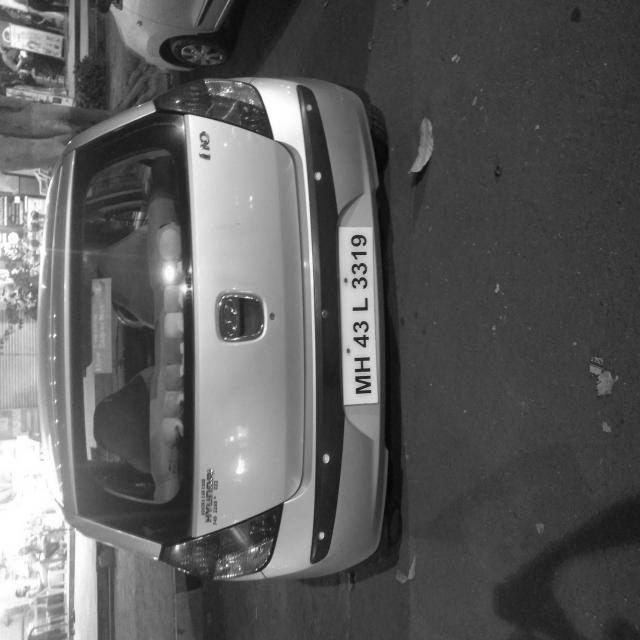car: (40, 41, 426, 531)
license-plate: (175, 456, 312, 504)
